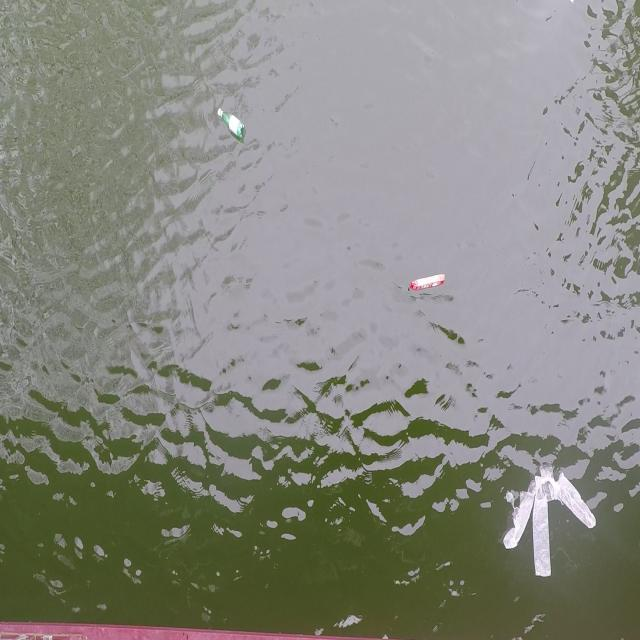Bouteille plastique: (212, 106, 249, 146)
Sac plastique: (501, 456, 602, 583)
